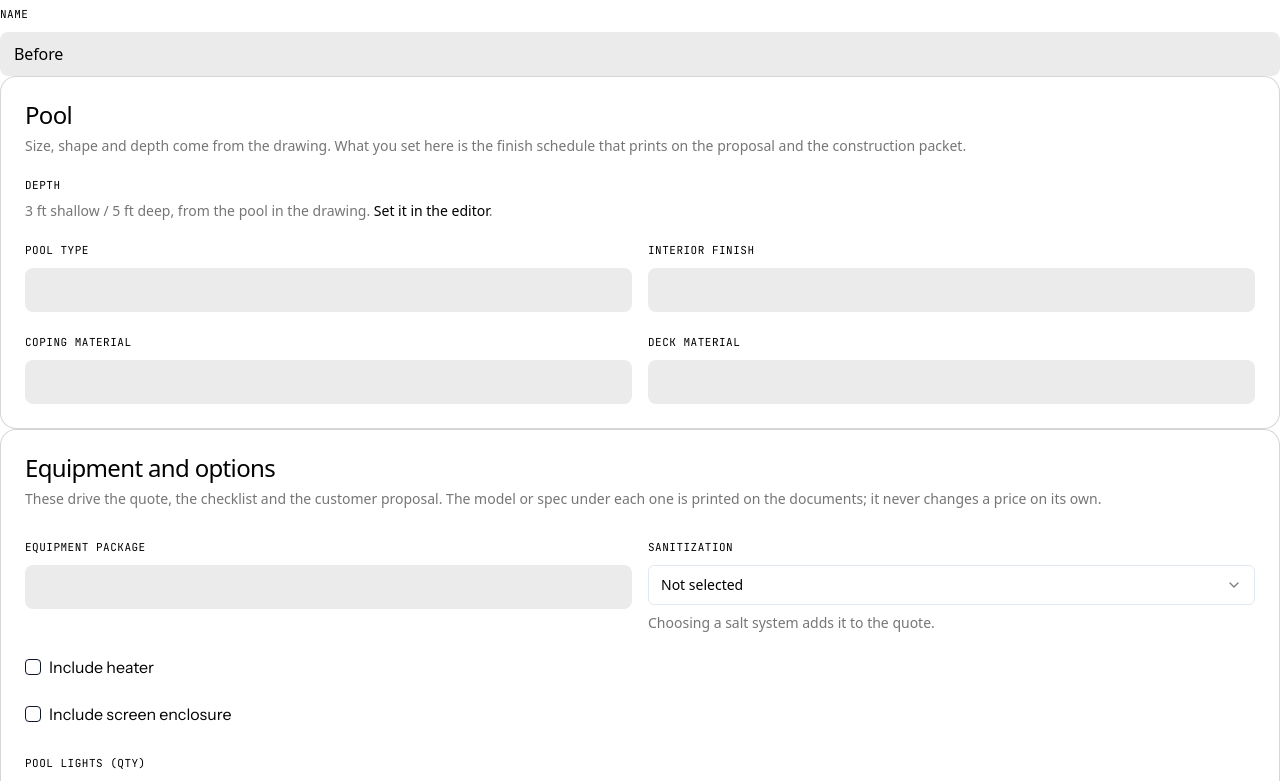
Test: project page asks each question once › does not let a heater be specced without being sold
Expected: the field labelled "Heater model or fuel" is not shown
Step 1. Click the checkbox named "Include heater" next to "Include heater" → click(33, 667), box left=25, top=659, right=41, bottom=675
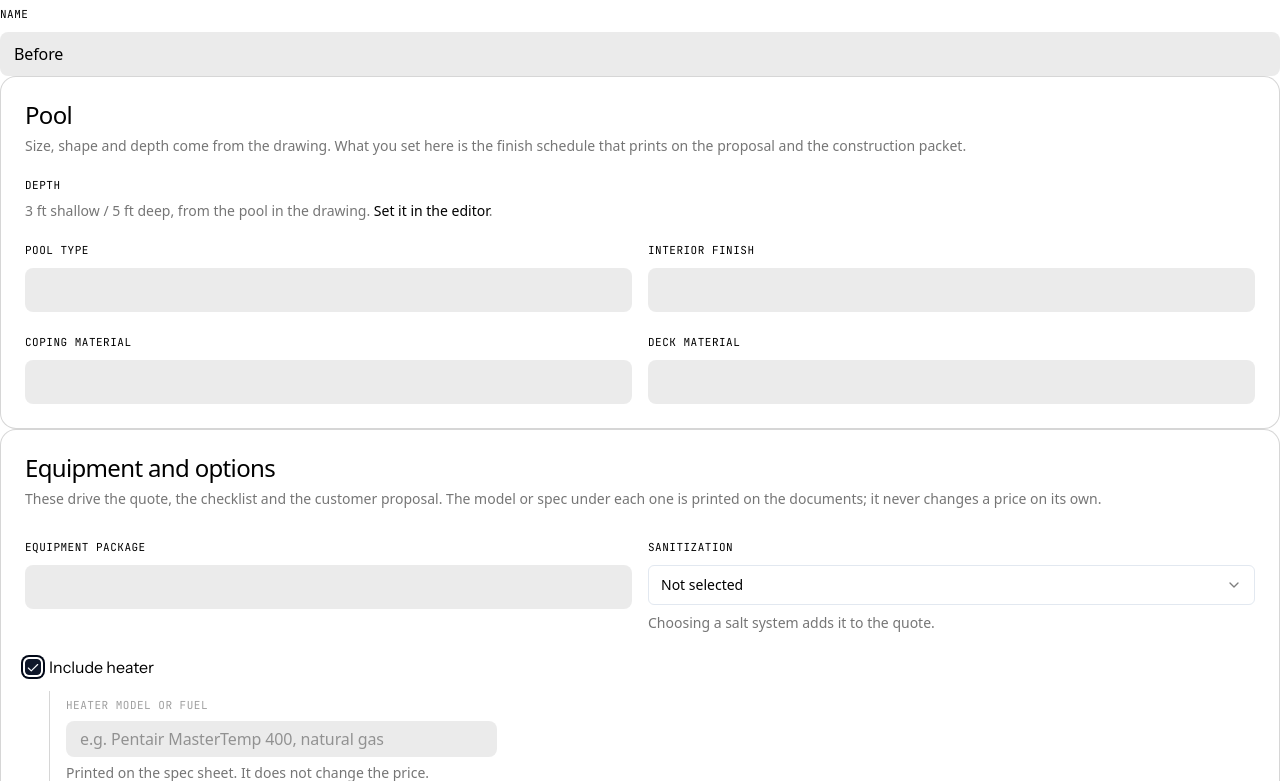
Expected: the field labelled "Heater model or fuel" is enabled, left=66, top=720, right=497, bottom=756
